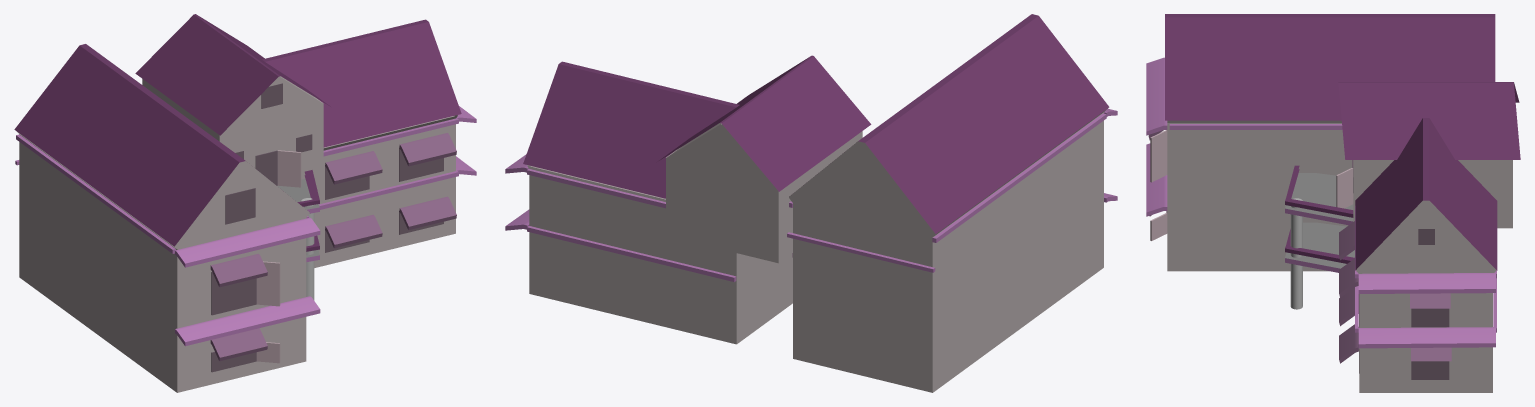
The model's file is ING Tech Block.glb.
The picture shows the model from 3 angles, left to right: view 1: azimuth 30°, elevation 25°; view 2: azimuth 150°, elevation 25°; view 3: azimuth 270°, elevation 25°; orthographic projection. The views are drawn at different scales.
Visible parts, largest first — view 1: polySurface420; view 2: polySurface420; view 3: polySurface420.
Part boxes in pixels (box(x1,y1,x2,y2)): polySurface420: box(14, 14, 476, 392); polySurface420: box(505, 14, 1117, 392); polySurface420: box(1146, 14, 1520, 392).
Bounding box in the file's own units: 15.43 × 8.15 × 12.23.
